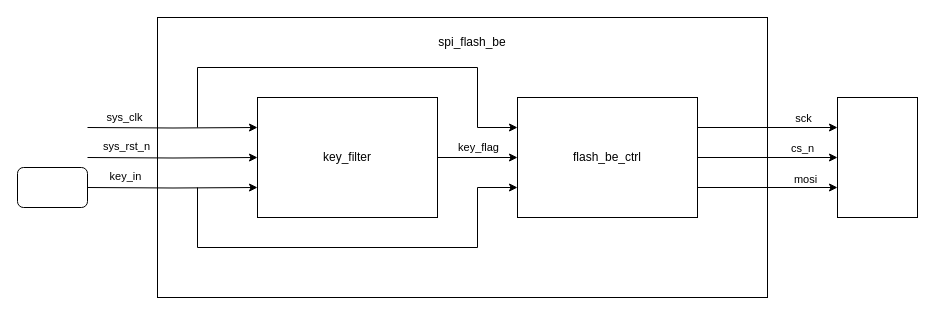
Image size: 935x315. Some labels were removed from this diagram. Each missing label, with the centre of its shape:
"flash" belongs at point (877, 157).
"Key" belongs at point (52, 187).
